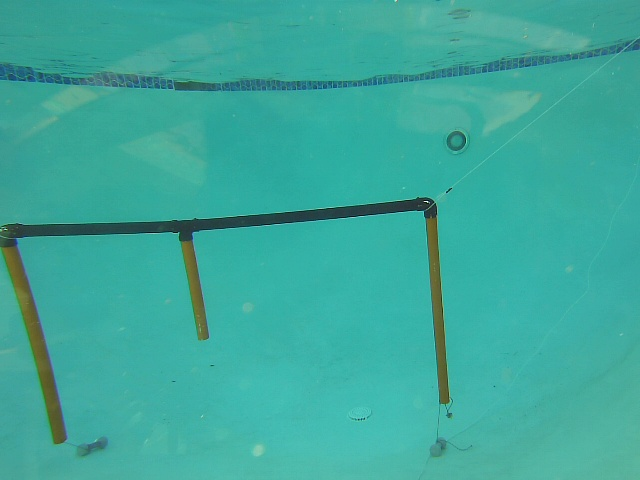Gate: (1, 243, 73, 448), (424, 213, 456, 410), (176, 238, 212, 344)
